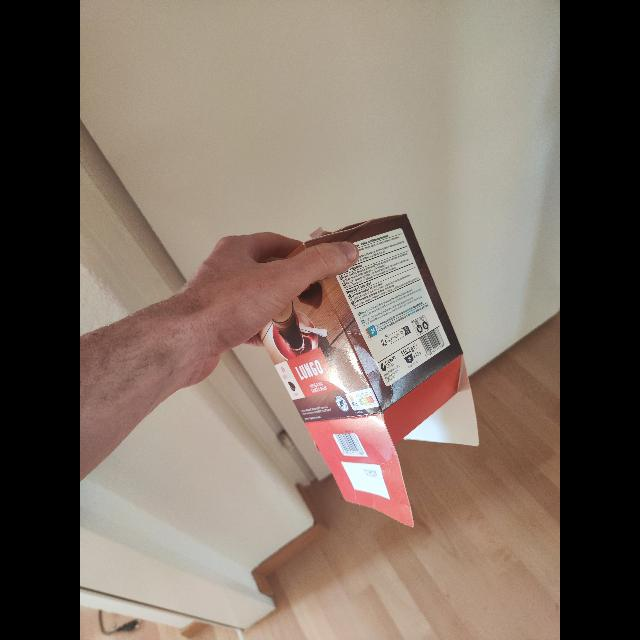Cardboard: (253, 212, 483, 530)
